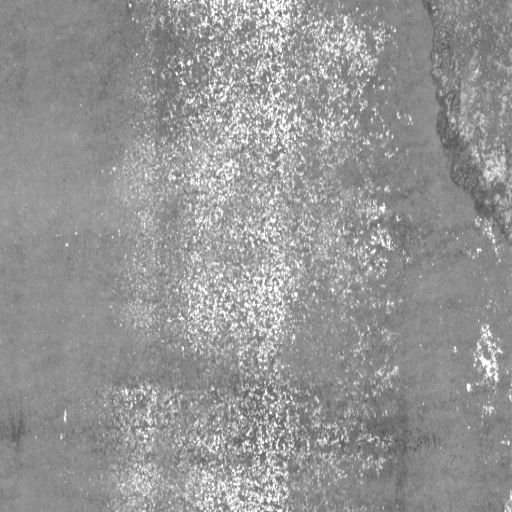qiaopi: (419, 1, 512, 244)
